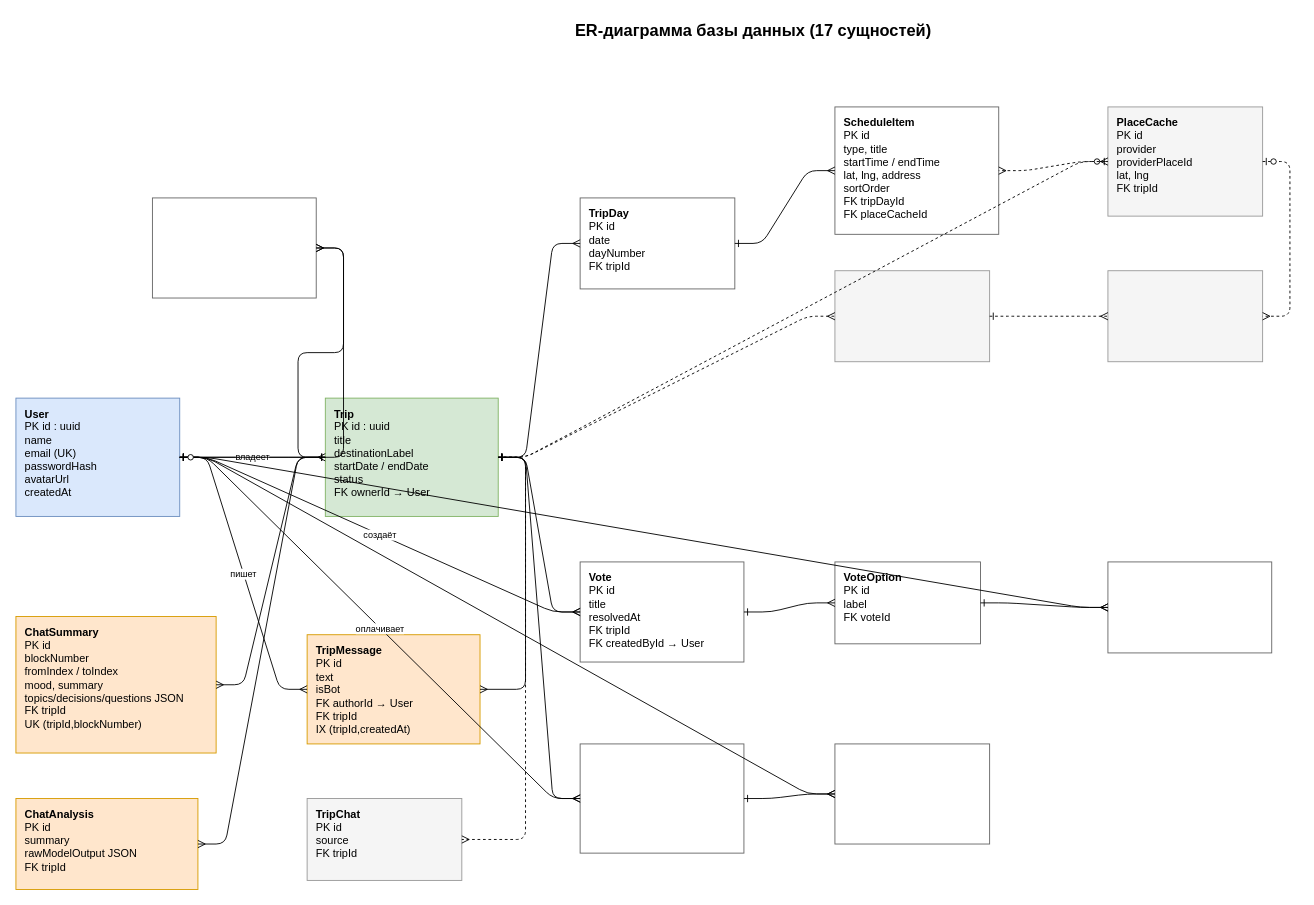
Image size: 1314x905. Some labels were removed from this diagram. The shapes that lost their labels are listed below. From the top down, each one's box as (x1, y1, x2, y2) in pixels, then its label:
(152, 197, 316, 298): TripMember PK id role FK tripId FK userId UK (tripId,userId)
(834, 270, 990, 362): TripRoute PK id title transportType FK tripId
(1107, 270, 1263, 362): RoutePoint PK id sortOrder FK routeId FK placeCacheId
(1107, 561, 1272, 653): VoteAnswer PK id FK optionId FK userId UK (optionId,userId)
(579, 743, 744, 853): Expense PK id title, category amount, currency FK tripId FK createdById → User
(834, 743, 990, 844): ExpenseSplit PK id amount status FK expenseId FK userId
